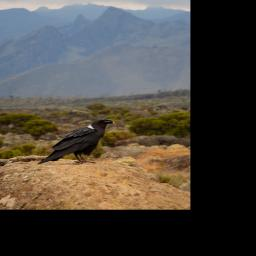Crow: (35, 118, 116, 167)
